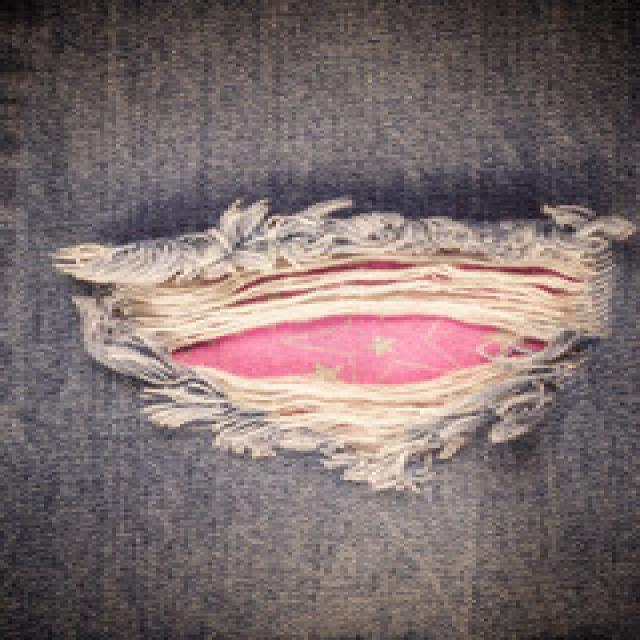Hole: (56, 198, 635, 492)
